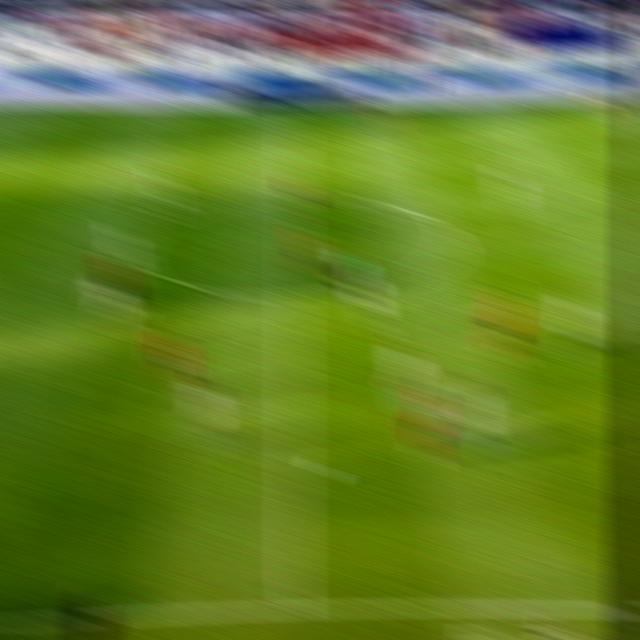halfcircle_bottom: (276, 279, 314, 312)
halfcircle_top: (275, 183, 309, 208)
midline_bottom_intersection: (271, 585, 318, 624)
midline_top_intersection: (279, 106, 310, 129)
